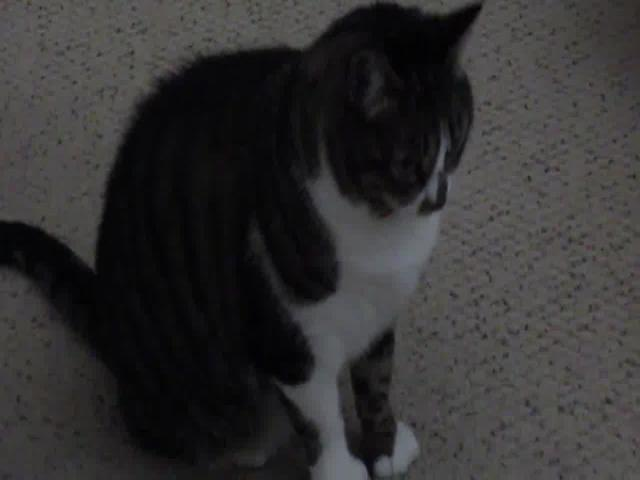playdoh: (1, 1, 487, 480)
